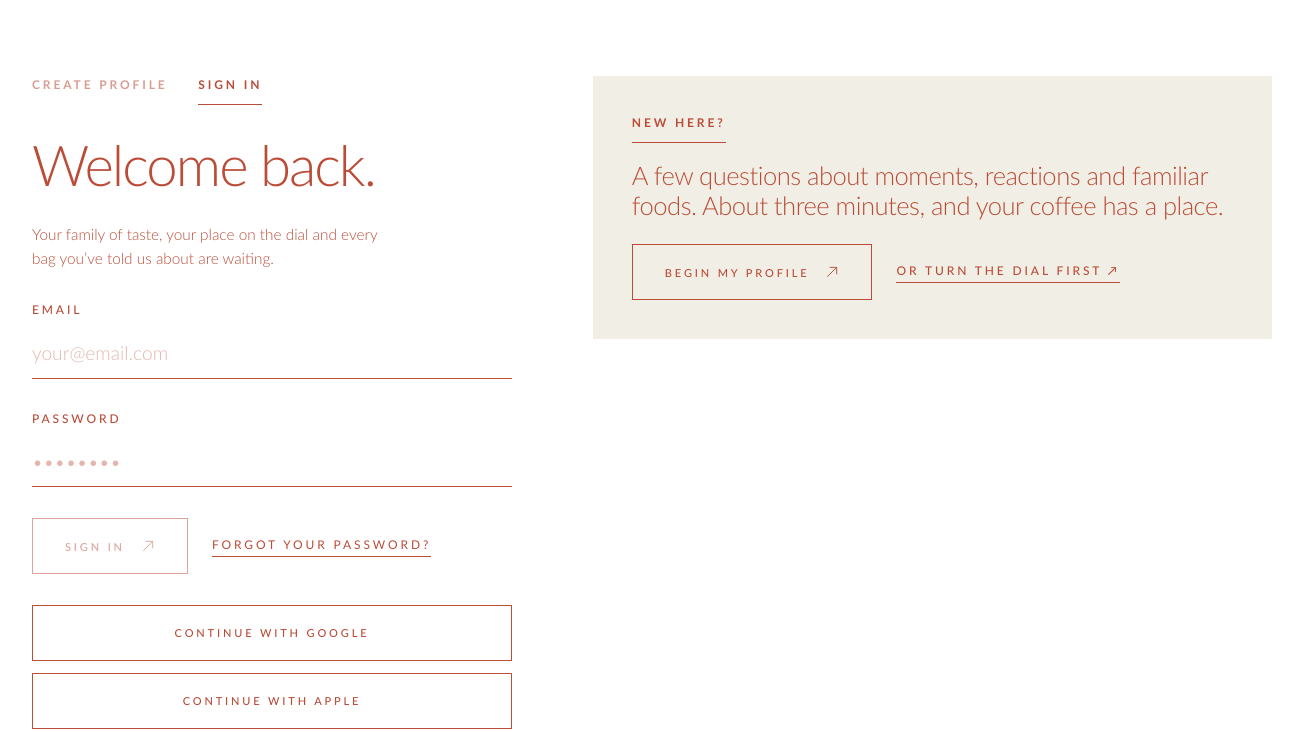
Test case: /sign-in › signs in by email and keeps ?redirect=
Type "a@b.co" into the field labelled "Email". click: [272, 354]
box: x1=32 y1=329 x2=512 y2=379
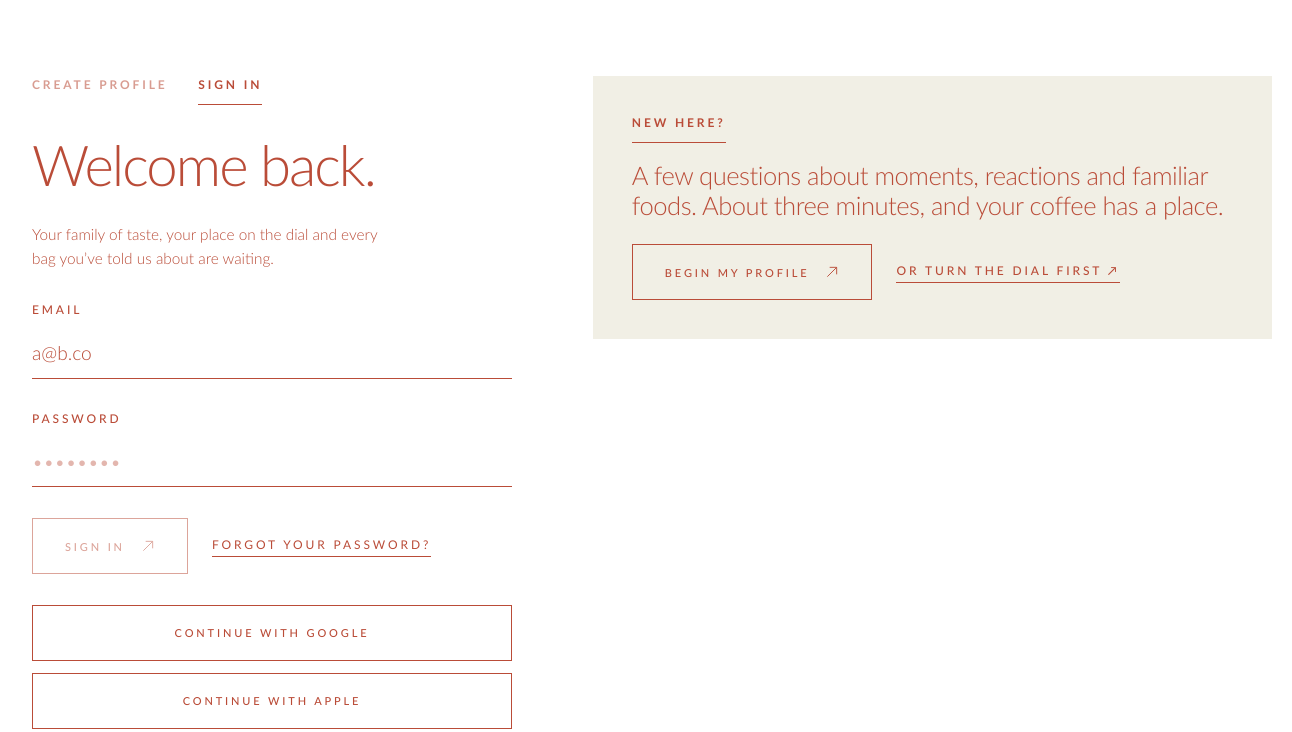
Type "secret1" into the password field labelled "Password". click: [272, 462]
box: x1=32 y1=438 x2=512 y2=487
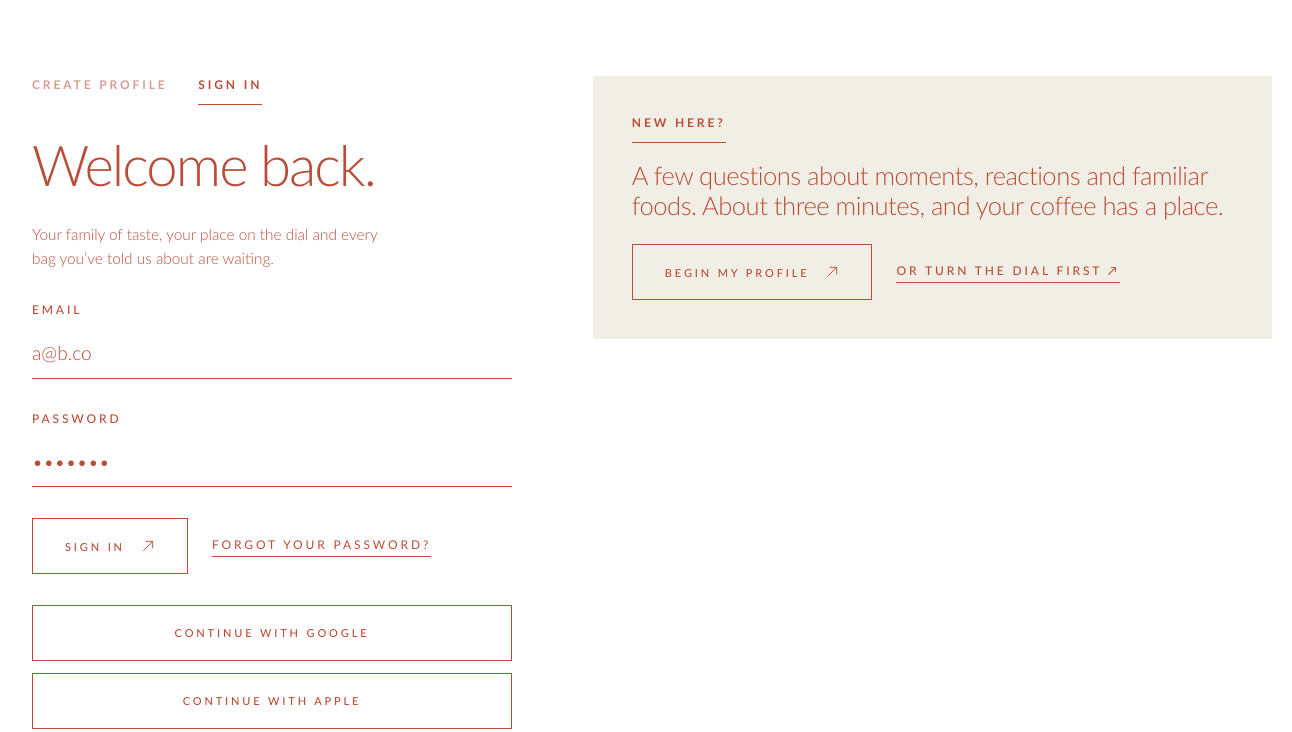
Click the button with test id "sign-in-submit". click: [110, 546]
box: x1=32 y1=518 x2=188 y2=574
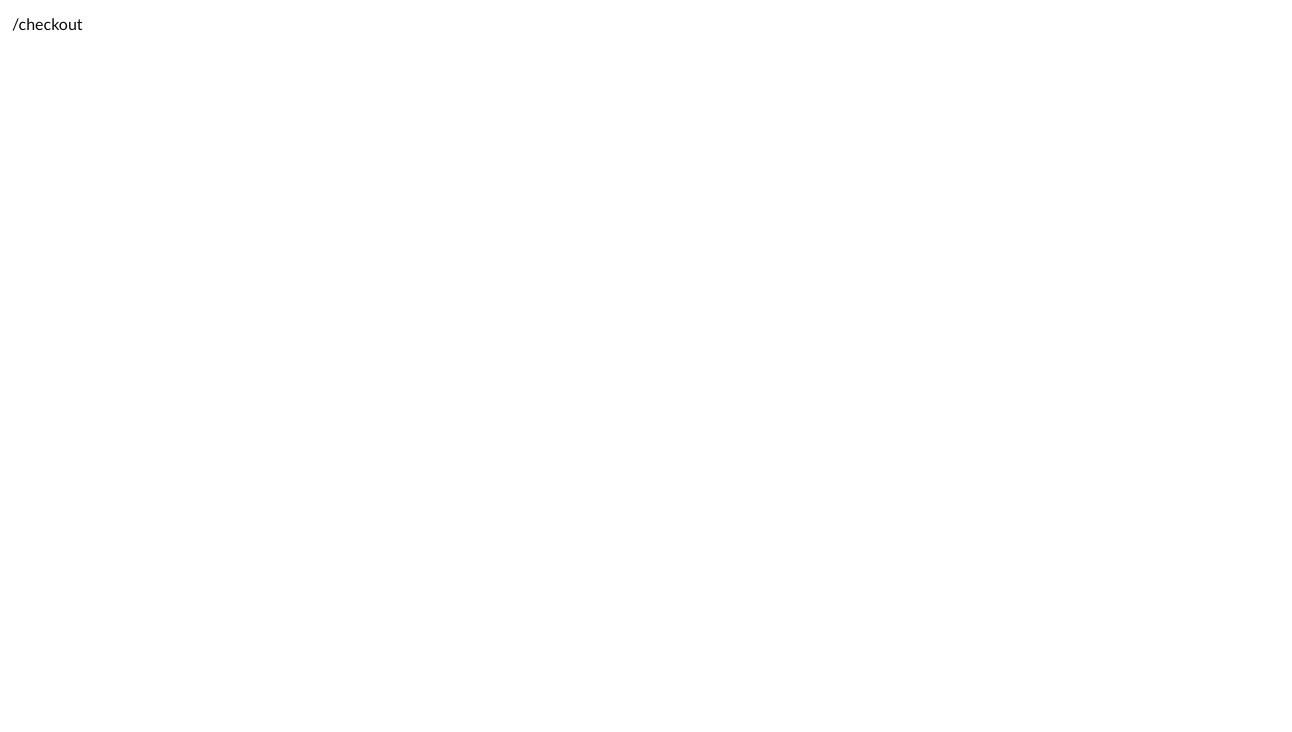
Now the text with test id "where" reads "/checkout", box x1=12 y1=14 x2=83 y2=33
